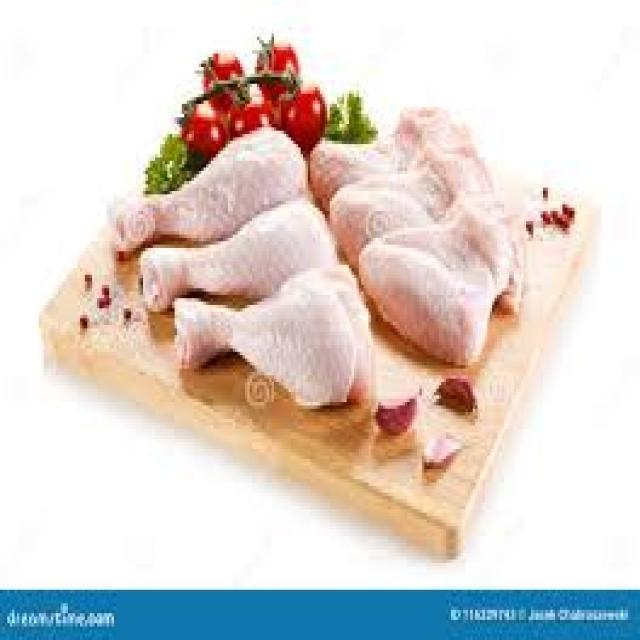leg: (172, 261, 378, 423), (104, 130, 316, 260), (122, 202, 338, 316)
